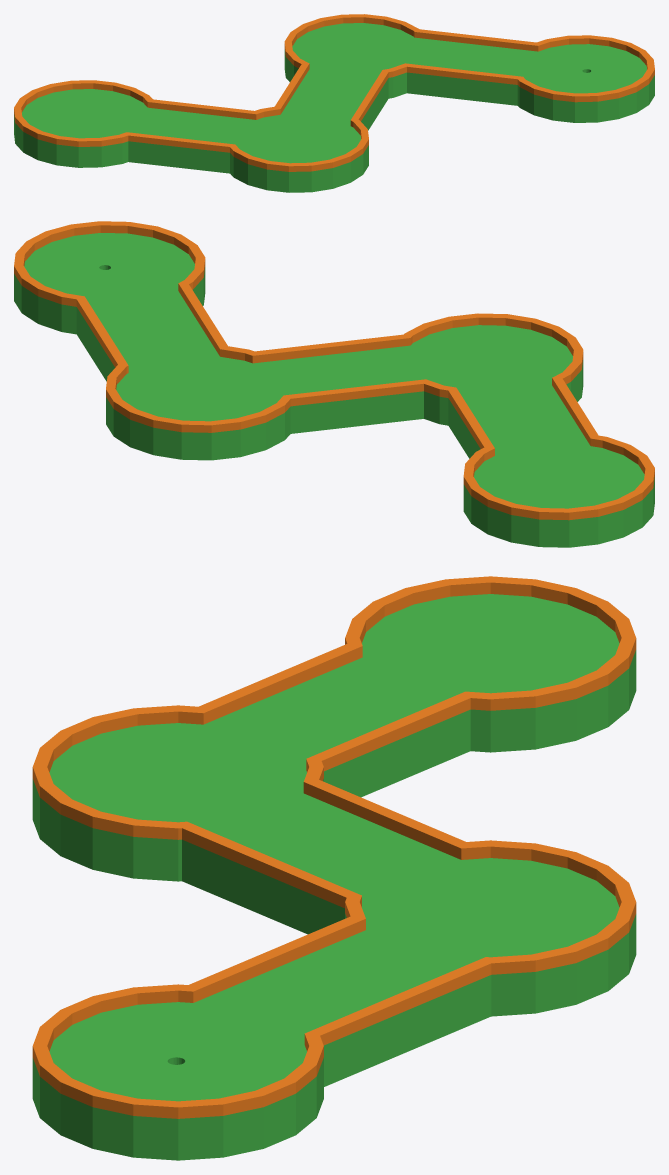
The model's file is tinker.obj.
The picture shows the model from 3 angles, top to bottom: view 1: azimuth 30°, elevation 25°; view 2: azimuth 150°, elevation 25°; view 3: azimuth 270°, elevation 25°; orthographic projection. The views are drawn at different scales.
Visible parts, largest first — view 1: group_0_4634441, group_0_16089887; view 2: group_0_4634441, group_0_16089887; view 3: group_0_4634441, group_0_16089887.
Part boxes in pixels (x1=…): group_0_4634441: x1=14, y1=23, x2=654, y2=192; group_0_16089887: x1=14, y1=14, x2=654, y2=171; group_0_4634441: x1=14, y1=233, x2=654, y2=547; group_0_16089887: x1=14, y1=221, x2=654, y2=520; group_0_4634441: x1=32, y1=594, x2=636, y2=1160; group_0_16089887: x1=32, y1=576, x2=636, y2=1118.
Size of the model in its own units: 177 by 8.26 by 85.
